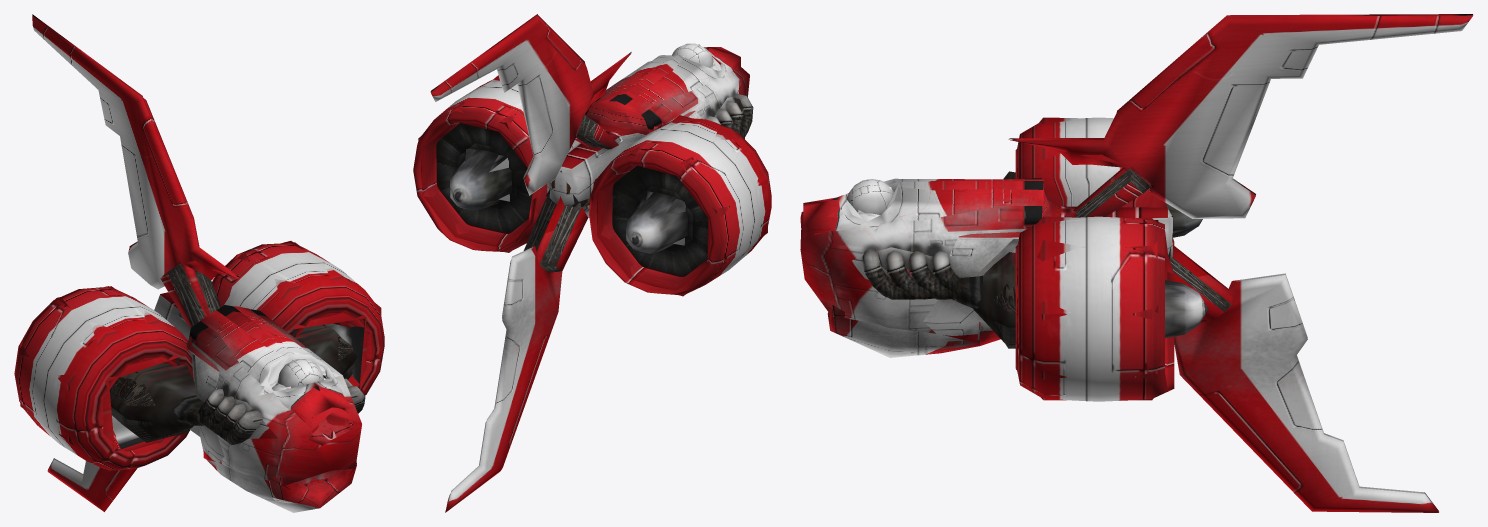
File: gtio.obj
The picture shows the model from 3 angles, left to right: view 1: azimuth 30°, elevation 25°; view 2: azimuth 150°, elevation 25°; view 3: azimuth 270°, elevation 25°; orthographic projection. The views are drawn at different scales.
Size of the model in its own units: 581 by 765 by 935.
5 materials, 5 textured.
